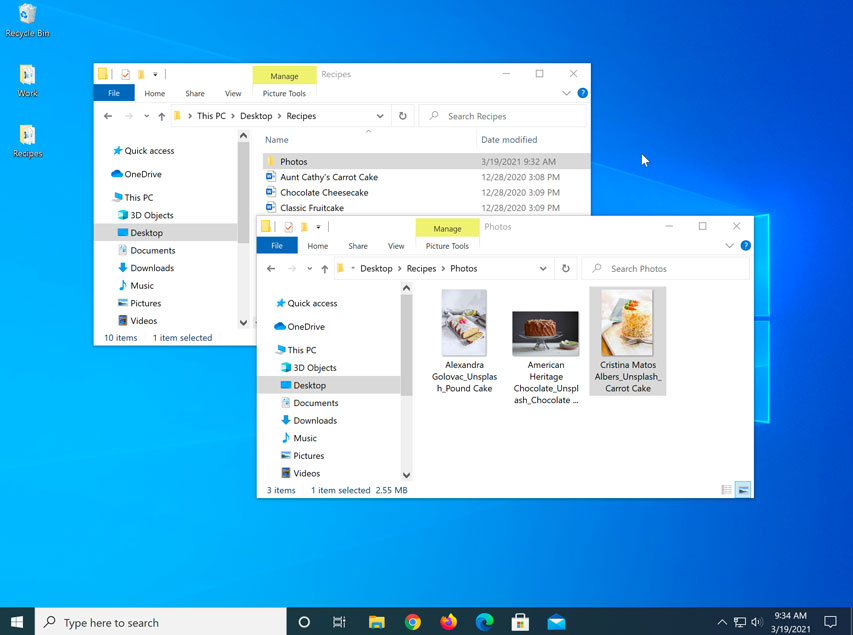search_box: (35, 607, 285, 635)
start_bar: (7, 608, 28, 632)
